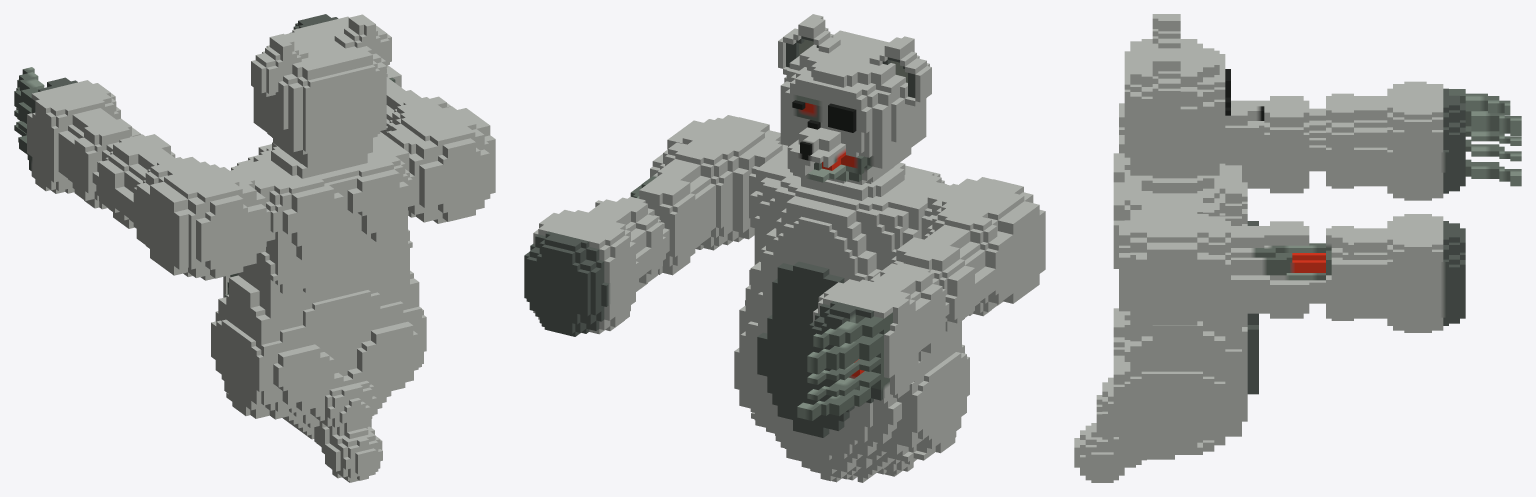
The model's file is Enemy-14-PolarFinal.fbx.
The picture shows the model from 3 angles, left to right: view 1: azimuth 30°, elevation 25°; view 2: azimuth 150°, elevation 25°; view 3: azimuth 270°, elevation 25°; orthographic projection. The views are drawn at different scales.
Parts seen in each view (by area): view 1: PolarFinal; view 2: PolarFinal; view 3: PolarFinal.
Boxes of the visible parts, <box> form: PolarFinal: <box>14,14,495,482</box>; PolarFinal: <box>524,14,1045,482</box>; PolarFinal: <box>1074,14,1521,482</box>.
Bounding box in the file's own units: 70 × 87 × 80.
Materials: 1 (1 with a texture image).
